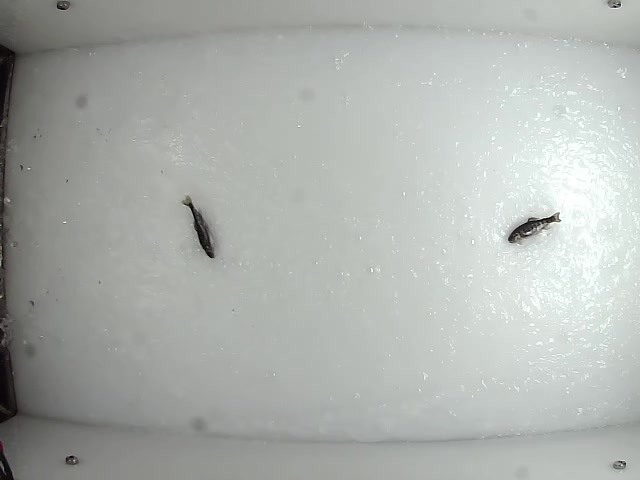fish: (180, 194, 217, 261), (506, 210, 563, 245)
